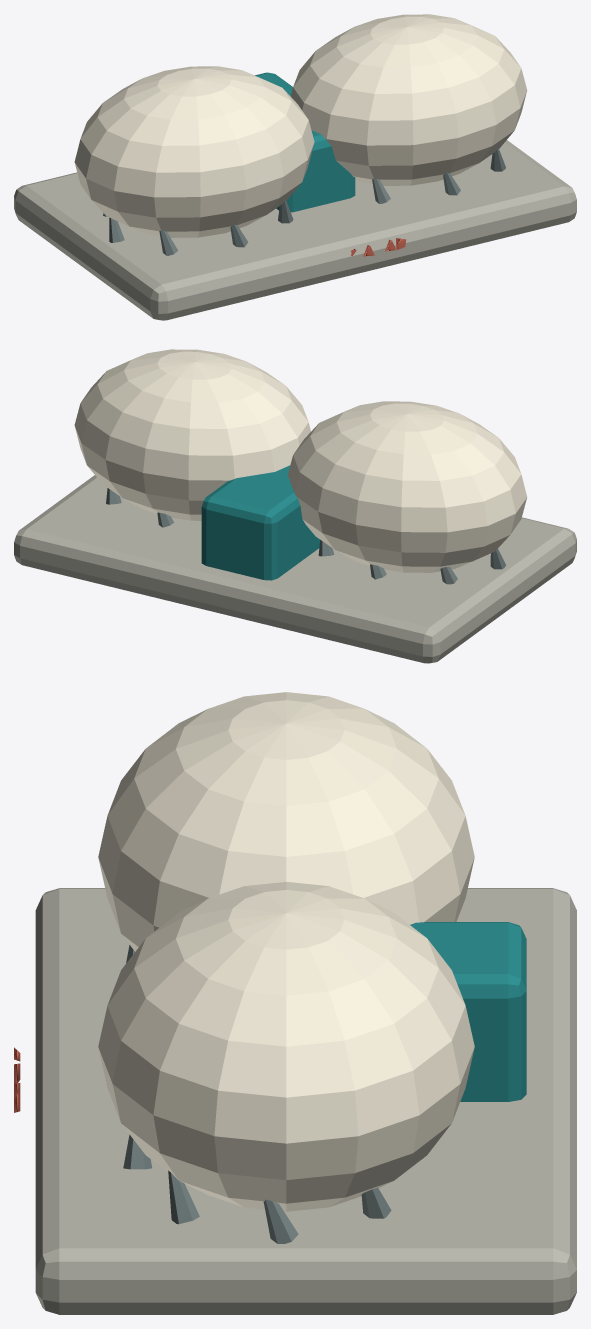
Rendered from concert-hall-v2.glb.
3 renders of one model, top to bottom at view 1: azimuth 30°, elevation 25°; view 2: azimuth 150°, elevation 25°; view 3: azimuth 270°, elevation 25°, orthographic. The views are drawn at different scales.
Parts seen in each view (by area): view 1: ESPLANADE TWIN DOME KIT · Chalk; view 2: ESPLANADE TWIN DOME KIT · Chalk; view 3: ESPLANADE TWIN DOME KIT · Chalk.
Part boxes in pixels (<box>): ESPLANADE TWIN DOME KIT · Chalk: <box>14,14,576,320</box>; ESPLANADE TWIN DOME KIT · Chalk: <box>14,349,576,663</box>; ESPLANADE TWIN DOME KIT · Chalk: <box>14,692,576,1314</box>.
Bounding box in the file's own units: 6.87 × 2.64 × 4.26.
Materials: 1 (1 with a texture image).
